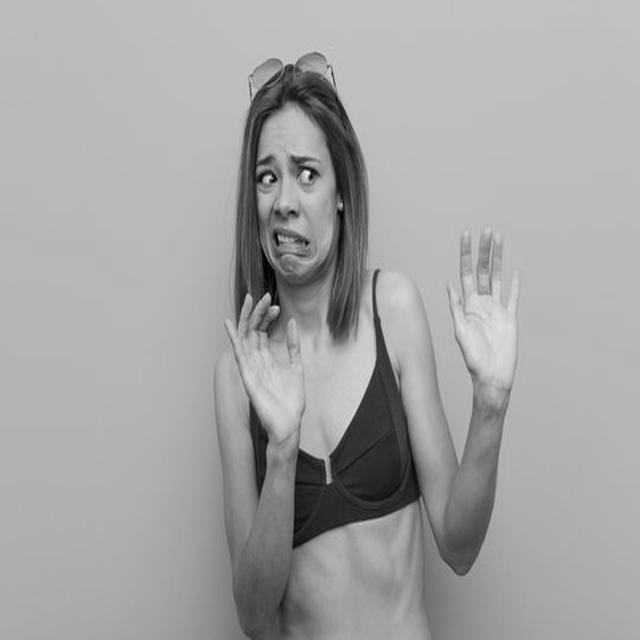Disgust: (254, 98, 339, 287)
